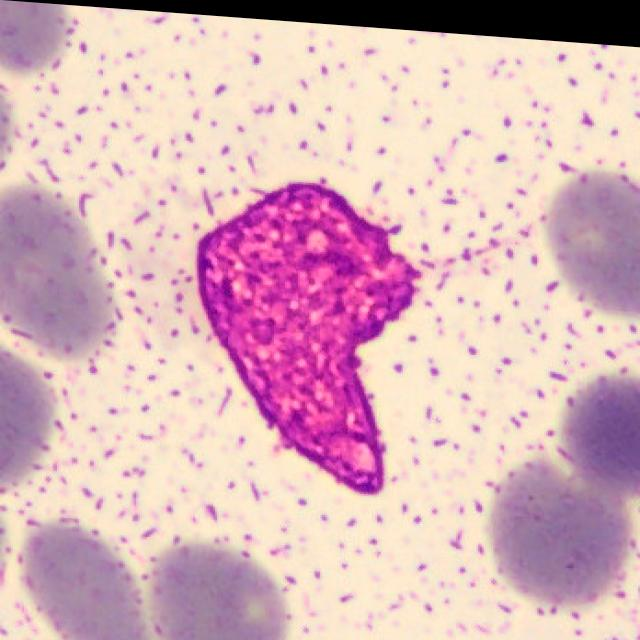Restos celulares: (197, 175, 419, 488)
